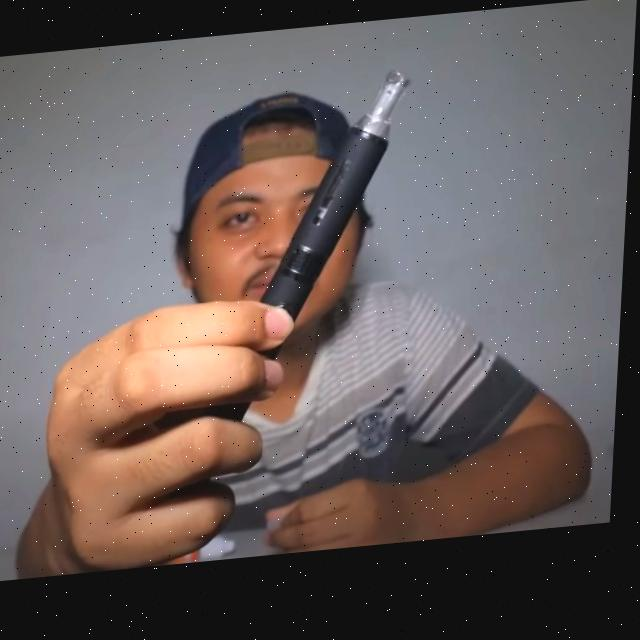vape: (205, 74, 417, 428)
